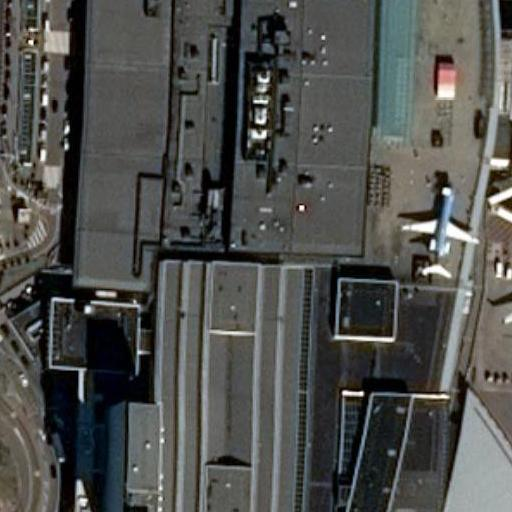Aircraft: (501, 222, 512, 384)
